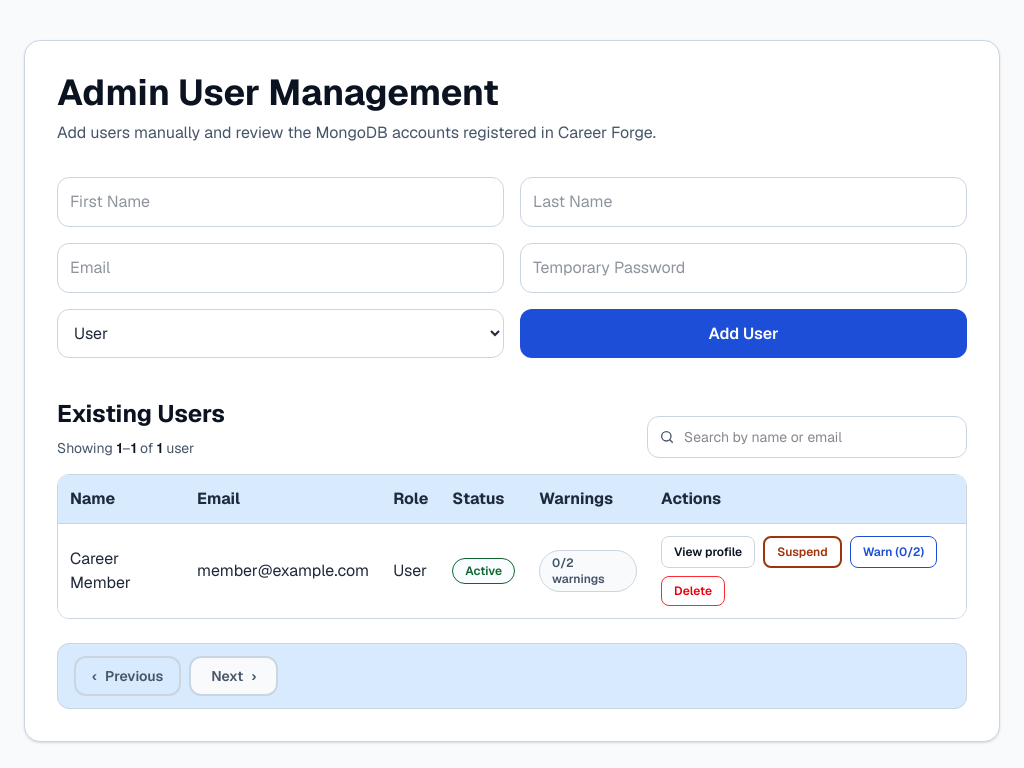
Scenario: AdminUsersClient › creates an admin account with the selected role
The width and height of the screenshot is (1024, 768).
Step 1. Type "New" into the field with placeholder "First Name" → (280, 202), box [57,177,504,227]
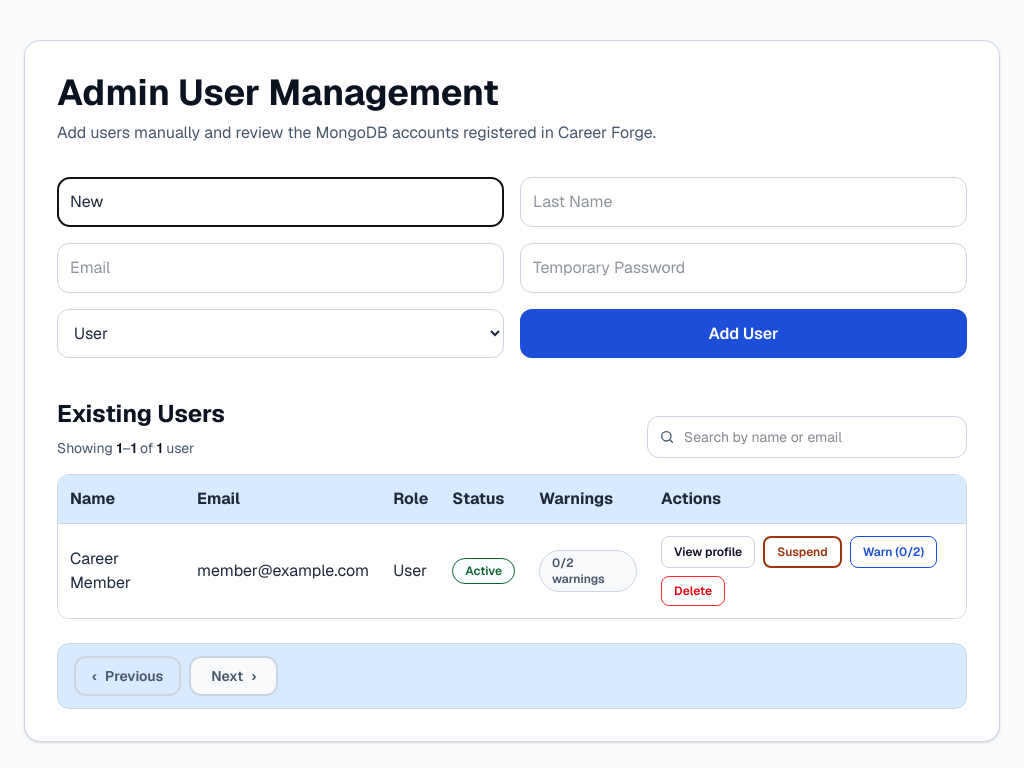
Step 2. Type "Admin" into the field with placeholder "Last Name" → (744, 202), box [520,177,967,227]
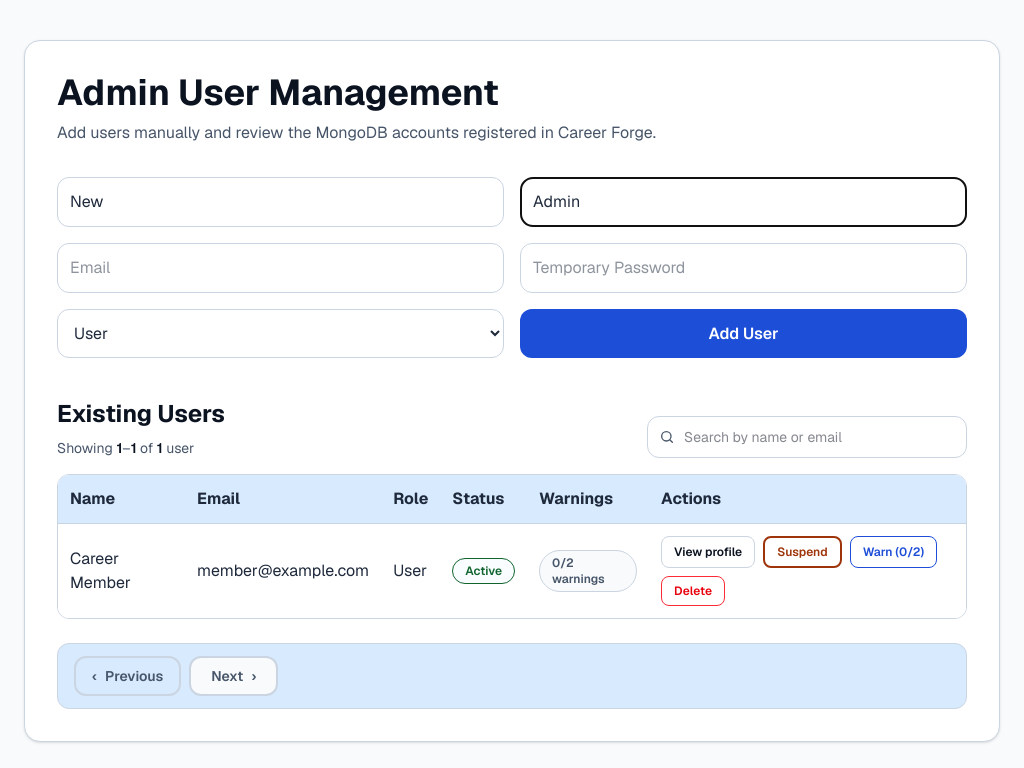
Step 3. Type "new-admin@example.com" into the field with placeholder "Email" → (280, 268), box [57,243,504,293]
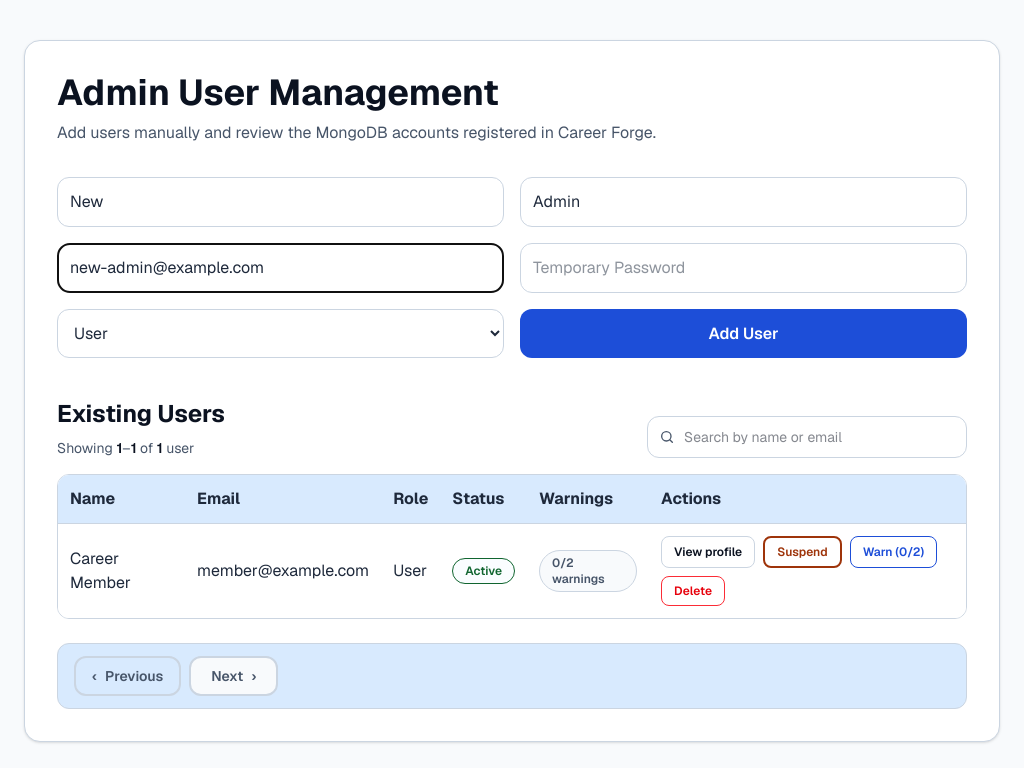
Step 4. Type "password123" into the password field with placeholder "Temporary Password" → (744, 268), box [520,243,967,293]
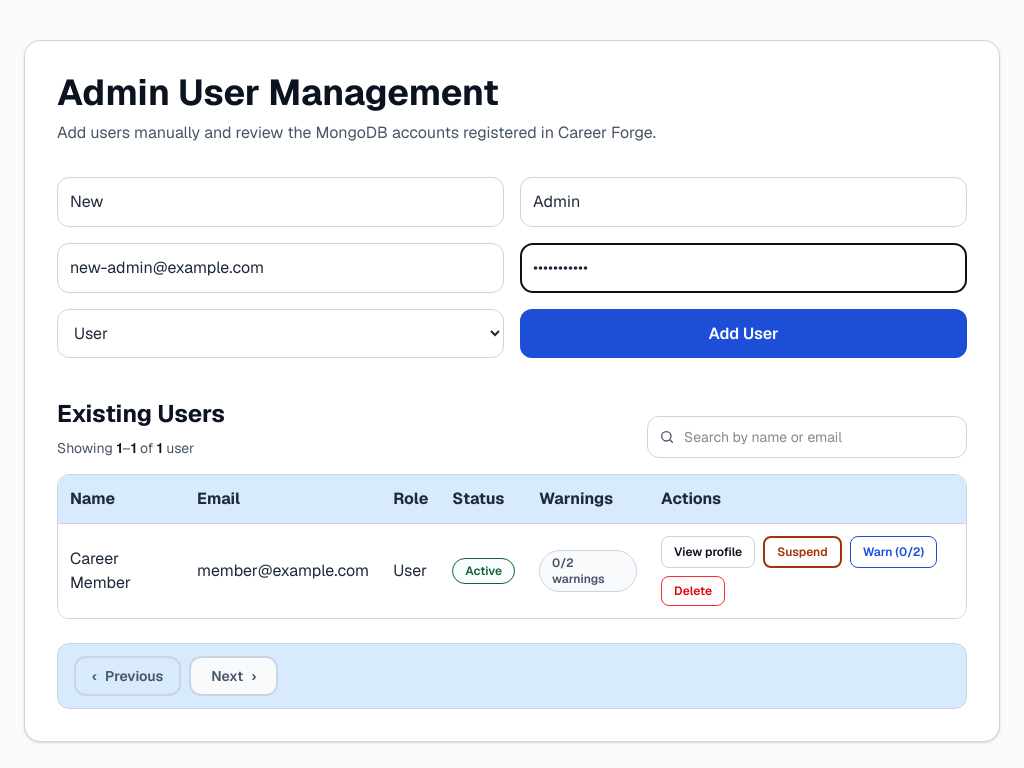
Step 5. Select "Admin" in the dropdown → (280, 334), box [57,309,504,358]
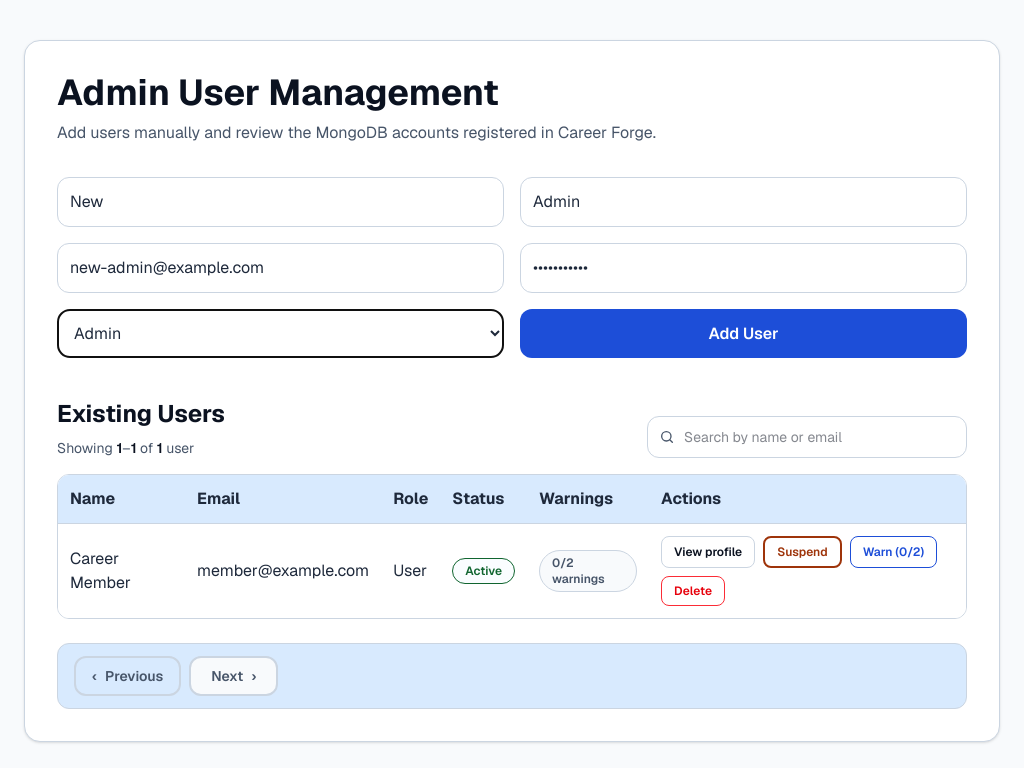
Step 6. Click the button "Add User" → (744, 334), box [520,309,967,358]
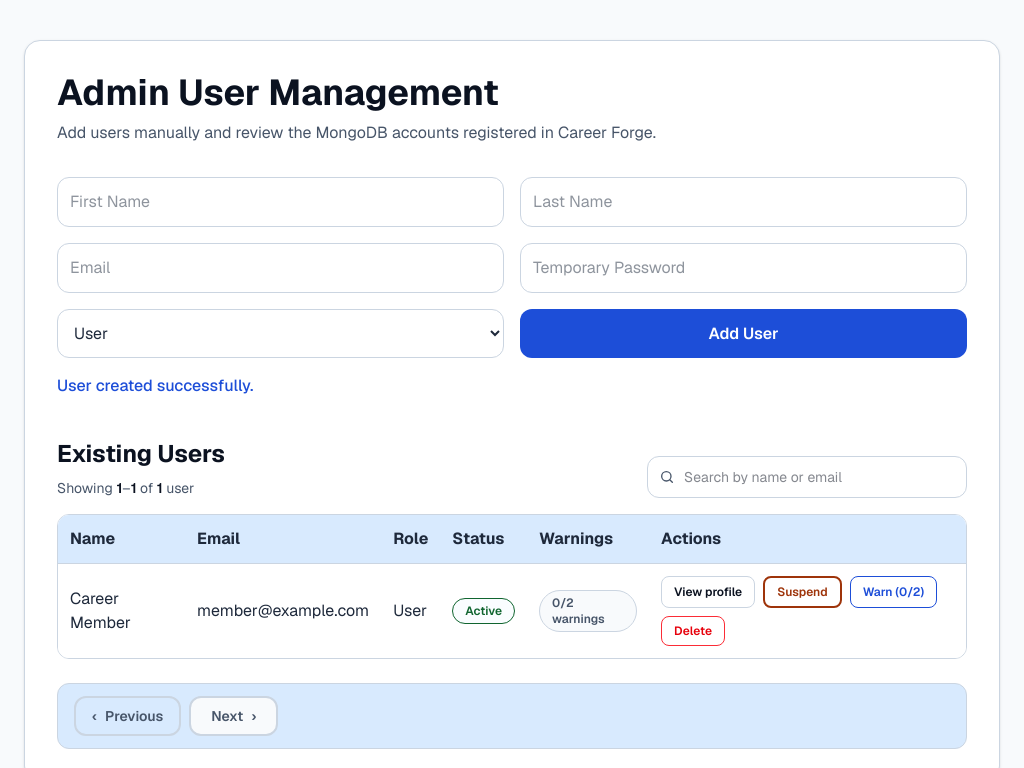
Result: the text "User created successfully." is shown at [57,375,253,396]
